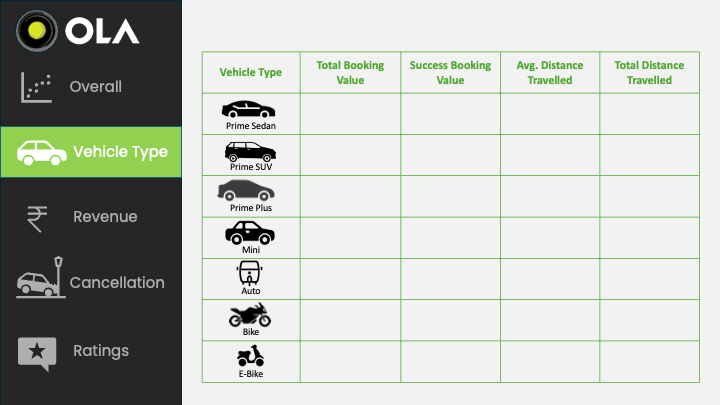

What the dashboard file says about the page in this screenshot:
{"tool":"powerbi","page":{"name":"Vehicle Type","canvas":[1280,720],"ordinal":1},"visuals":[{"type":"actionButton","box":[0,340.5,322.6,90.5],"z":0},{"type":"actionButton","box":[0,450,322.6,90.5],"z":1000},{"type":"actionButton","box":[0,578.6,322.6,90.5],"z":2000},{"type":"actionButton","box":[1.2,109.5,322.6,90.5],"z":3000},{"type":"card","fields":{"Values":["Sum(Bookings-100000-Rows (2).Booking_Value)"]},"box":[535.5,167.1,175,67.1],"z":3001},{"type":"card","fields":{"Values":["Sum(Bookings-100000-Rows (2).Booking_Value)"]},"box":[535.5,240.8,175,67.1],"z":3003},{"type":"card","fields":{"Values":["Sum(Bookings-100000-Rows (2).Booking_Value)"]},"box":[535.5,307.9,175,67.1],"z":3004},{"type":"card","fields":{"Values":["Sum(Bookings-100000-Rows (2).Booking_Value)"]},"box":[535.5,385.5,175,67.1],"z":3005},{"type":"card","fields":{"Values":["Sum(Bookings-100000-Rows (2).Booking_Value)"]},"box":[535.5,461.8,175,67.1],"z":3006},{"type":"card","fields":{"Values":["Sum(Bookings-100000-Rows (2).Booking_Value)"]},"box":[535.5,535.5,175,67.1],"z":3007},{"type":"card","fields":{"Values":["Sum(Bookings-100000-Rows (2).Booking_Value)"]},"box":[535.5,602.6,175,67.1],"z":3008},{"type":"card","fields":{"Values":["Sum(Bookings-100000-Rows (2).Booking_Value)"]},"box":[710.5,167.1,175,67.1],"z":3009},{"type":"card","fields":{"Values":["Sum(Bookings-100000-Rows (2).Booking_Value)"]},"box":[714.5,240.8,175,67.1],"z":3010},{"type":"card","fields":{"Values":["Sum(Bookings-100000-Rows (2).Booking_Value)"]},"box":[713.2,307.9,175,67.1],"z":3011},{"type":"card","fields":{"Values":["Sum(Bookings-100000-Rows (2).Booking_Value)"]},"box":[711.8,386.8,175,67.1],"z":3012},{"type":"card","fields":{"Values":["Sum(Bookings-100000-Rows (2).Booking_Value)"]},"box":[711.8,460.5,175,67.1],"z":3013},{"type":"card","fields":{"Values":["Sum(Bookings-100000-Rows (2).Booking_Value)"]},"box":[710.5,535.5,175,67.1],"z":3014},{"type":"card","fields":{"Values":["Sum(Bookings-100000-Rows (2).Booking_Value)"]},"box":[710.5,603.9,175,67.1],"z":3015},{"type":"card","fields":{"Values":["Avg(Bookings-100000-Rows (2).Ride_Distance)"]},"box":[888.2,167.1,175,67.1],"z":3016},{"type":"card","fields":{"Values":["Avg(Bookings-100000-Rows (2).Ride_Distance)"]},"box":[890.8,307.9,175,67.1],"z":3017},{"type":"card","fields":{"Values":["Avg(Bookings-100000-Rows (2).Ride_Distance)"]},"box":[888.2,386.8,175,67.1],"z":3018},{"type":"card","fields":{"Values":["Avg(Bookings-100000-Rows (2).Ride_Distance)"]},"box":[889.5,461.8,175,67.1],"z":3019},{"type":"card","fields":{"Values":["Avg(Bookings-100000-Rows (2).Ride_Distance)"]},"box":[885.5,535.5,175,67.1],"z":3020},{"type":"card","fields":{"Values":["Avg(Bookings-100000-Rows (2).Ride_Distance)"]},"box":[885.5,603.9,175,67.1],"z":3021},{"type":"card","fields":{"Values":["Avg(Bookings-100000-Rows (2).Ride_Distance)"]},"box":[892.1,240.8,175,67.1],"z":3022},{"type":"card","fields":{"Values":["Sum(Bookings-100000-Rows (2).Ride_Distance)"]},"box":[1067.1,165.8,175,67.1],"z":3023},{"type":"card","fields":{"Values":["Sum(Bookings-100000-Rows (2).Ride_Distance)"]},"box":[1071.1,240.8,175,67.1],"z":3024},{"type":"card","fields":{"Values":["Sum(Bookings-100000-Rows (2).Ride_Distance)"]},"box":[1071.1,307.9,175,67.1],"z":3025},{"type":"card","fields":{"Values":["Sum(Bookings-100000-Rows (2).Ride_Distance)"]},"box":[1071.1,382.9,175,67.1],"z":3026},{"type":"card","fields":{"Values":["Sum(Bookings-100000-Rows (2).Ride_Distance)"]},"box":[1067.1,460.5,175,67.1],"z":3027},{"type":"card","fields":{"Values":["Sum(Bookings-100000-Rows (2).Ride_Distance)"]},"box":[1067.1,528.9,175,67.1],"z":3028},{"type":"card","fields":{"Values":["Sum(Bookings-100000-Rows (2).Ride_Distance)"]},"box":[1065.8,602.6,175,67.1],"z":3029},{"type":"slicer","title":"Data","fields":{"Values":["Bookings-100000-Rows (2).Date"]},"box":[964.5,10.5,276.3,71.1],"z":3030}]}

Visuals, with their boxes on the page's 1280x720 design canvas (x1, y1, x2, y2). These are canvas units, not pixel positions in the 720x405 screenshot, which may show the page scaled, cropped or inside an application window:
actionButton: [0,340,323,431]
actionButton: [0,450,323,540]
actionButton: [0,579,323,669]
actionButton: [1,110,324,200]
card - Sum(Bookings-100000-Rows (2).Booking_Value): [536,167,710,234]
card - Sum(Bookings-100000-Rows (2).Booking_Value): [536,241,710,308]
card - Sum(Bookings-100000-Rows (2).Booking_Value): [536,308,710,375]
card - Sum(Bookings-100000-Rows (2).Booking_Value): [536,386,710,453]
card - Sum(Bookings-100000-Rows (2).Booking_Value): [536,462,710,529]
card - Sum(Bookings-100000-Rows (2).Booking_Value): [536,536,710,603]
card - Sum(Bookings-100000-Rows (2).Booking_Value): [536,603,710,670]
card - Sum(Bookings-100000-Rows (2).Booking_Value): [710,167,886,234]
card - Sum(Bookings-100000-Rows (2).Booking_Value): [714,241,890,308]
card - Sum(Bookings-100000-Rows (2).Booking_Value): [713,308,888,375]
card - Sum(Bookings-100000-Rows (2).Booking_Value): [712,387,887,454]
card - Sum(Bookings-100000-Rows (2).Booking_Value): [712,460,887,528]
card - Sum(Bookings-100000-Rows (2).Booking_Value): [710,536,886,603]
card - Sum(Bookings-100000-Rows (2).Booking_Value): [710,604,886,671]
card - Avg(Bookings-100000-Rows (2).Ride_Distance): [888,167,1063,234]
card - Avg(Bookings-100000-Rows (2).Ride_Distance): [891,308,1066,375]
card - Avg(Bookings-100000-Rows (2).Ride_Distance): [888,387,1063,454]
card - Avg(Bookings-100000-Rows (2).Ride_Distance): [890,462,1064,529]
card - Avg(Bookings-100000-Rows (2).Ride_Distance): [886,536,1060,603]
card - Avg(Bookings-100000-Rows (2).Ride_Distance): [886,604,1060,671]
card - Avg(Bookings-100000-Rows (2).Ride_Distance): [892,241,1067,308]
card - Sum(Bookings-100000-Rows (2).Ride_Distance): [1067,166,1242,233]
card - Sum(Bookings-100000-Rows (2).Ride_Distance): [1071,241,1246,308]
card - Sum(Bookings-100000-Rows (2).Ride_Distance): [1071,308,1246,375]
card - Sum(Bookings-100000-Rows (2).Ride_Distance): [1071,383,1246,450]
card - Sum(Bookings-100000-Rows (2).Ride_Distance): [1067,460,1242,528]
card - Sum(Bookings-100000-Rows (2).Ride_Distance): [1067,529,1242,596]
card - Sum(Bookings-100000-Rows (2).Ride_Distance): [1066,603,1241,670]
"Data" slicer: [964,10,1241,82]
